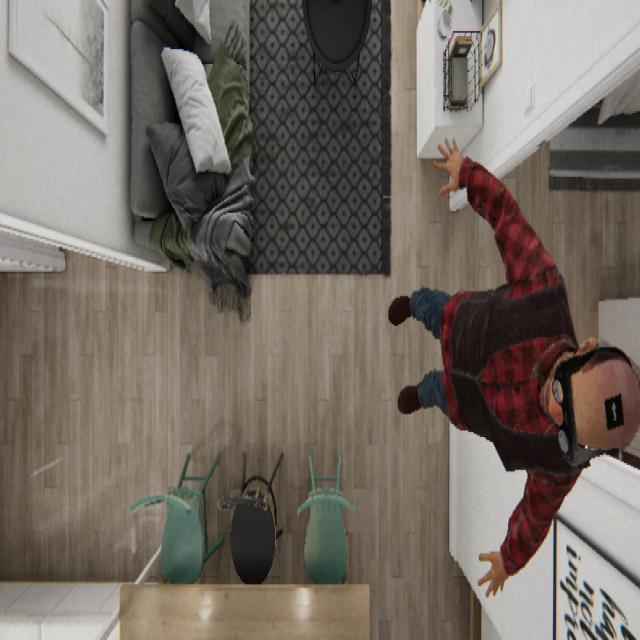Human: (387, 135, 639, 598)
UnityLogo: (602, 390, 624, 430)
